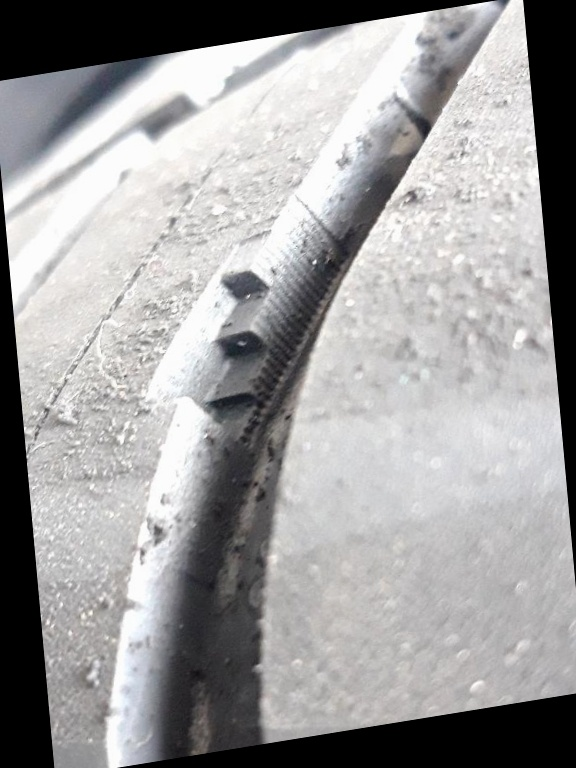temoin:75: (118, 213, 348, 472)
